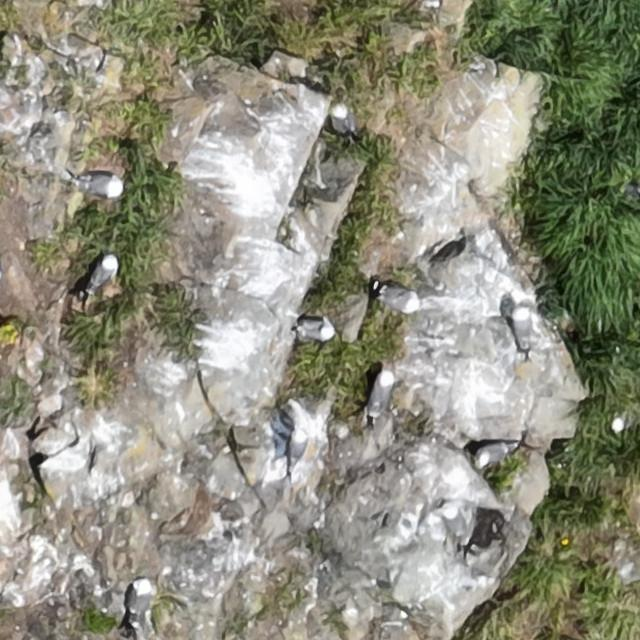umineko: (125, 576, 154, 636), (378, 281, 421, 315), (515, 307, 535, 359), (79, 176, 123, 198), (89, 255, 116, 290), (372, 372, 394, 408), (444, 504, 464, 542), (476, 442, 509, 464), (301, 321, 334, 341), (612, 406, 637, 432), (332, 107, 352, 136), (290, 430, 306, 462)
